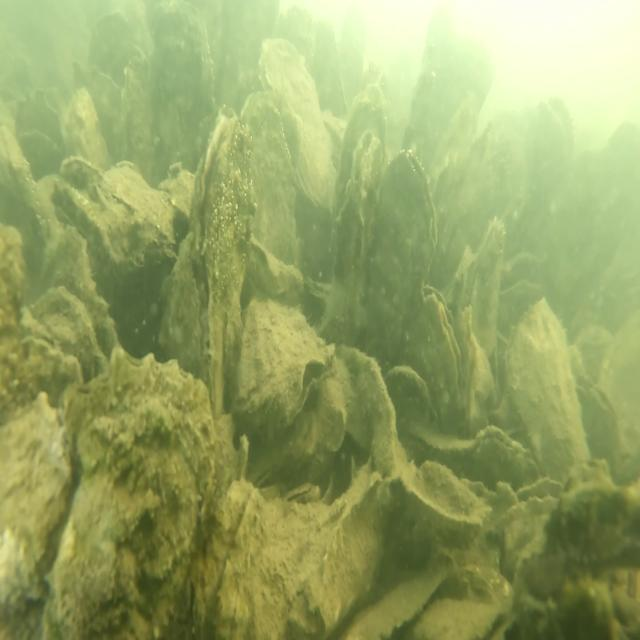Oyster-Closed: (43, 347, 214, 640), (190, 110, 258, 423), (503, 294, 589, 491), (365, 153, 436, 364), (58, 155, 176, 264), (195, 482, 263, 640), (457, 214, 504, 358), (0, 123, 58, 238), (453, 307, 494, 432), (422, 292, 463, 416), (472, 423, 537, 490), (247, 229, 300, 299), (407, 418, 478, 470), (287, 483, 324, 504)
Oyster-Indeterminate: (0, 393, 75, 640), (30, 226, 121, 383), (236, 88, 302, 276), (157, 227, 206, 382), (384, 362, 431, 428)
Oyster-Open: (234, 298, 333, 430), (334, 132, 384, 306), (503, 473, 563, 554), (572, 368, 618, 466)
